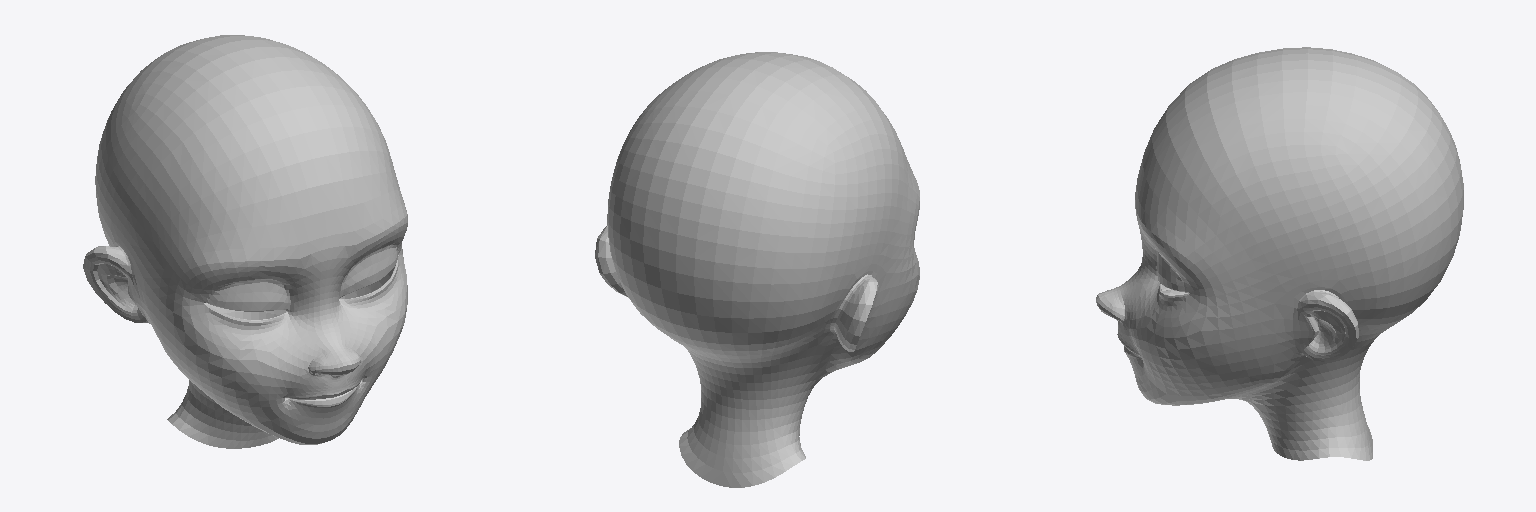
Rendered from pos9.obj.
3 renders of one model, left to right at view 1: azimuth 30°, elevation 25°; view 2: azimuth 150°, elevation 25°; view 3: azimuth 270°, elevation 25°, orthographic.
Visible parts, largest first — view 1: Mesh; view 2: Mesh; view 3: Mesh.
Boxes of the visible parts, x1=… form: Mesh: x1=83, y1=35, x2=407, y2=448; Mesh: x1=595, y1=52, x2=919, y2=487; Mesh: x1=1096, y1=47, x2=1463, y2=460.
Size of the model in its own units: 23.75 by 32.31 by 27.53.